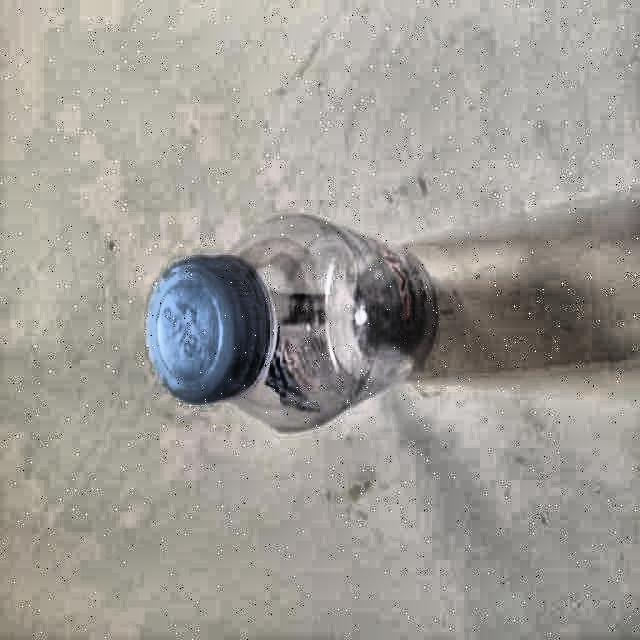plastic: (148, 213, 446, 431)
